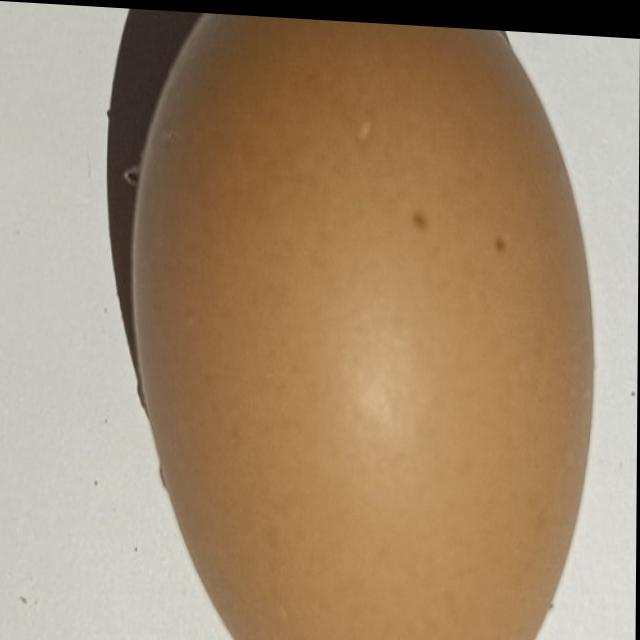fresh: (118, 6, 607, 640)
